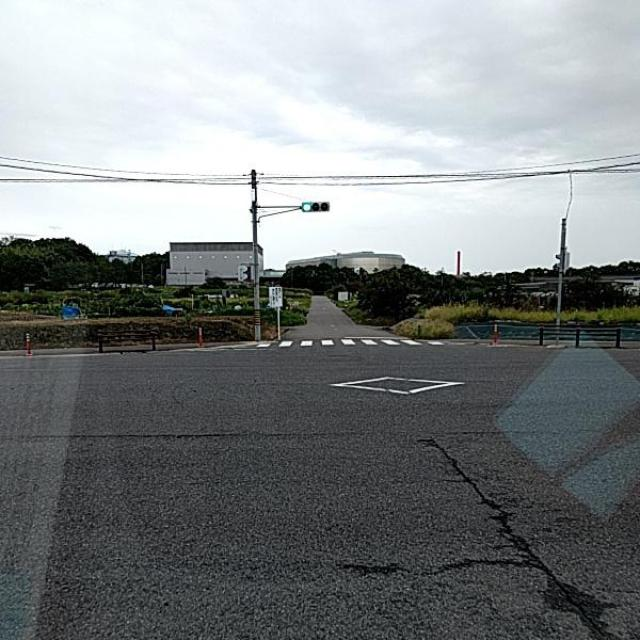Crack: (397, 406, 640, 640)
